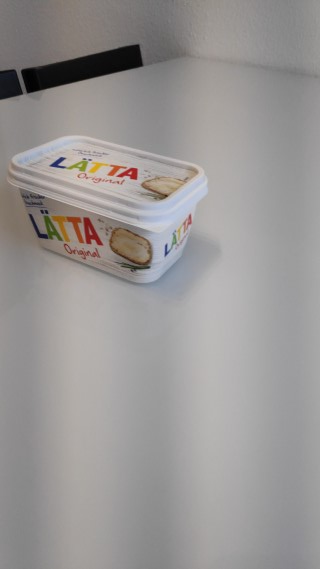laetta: (5, 133, 209, 285)
